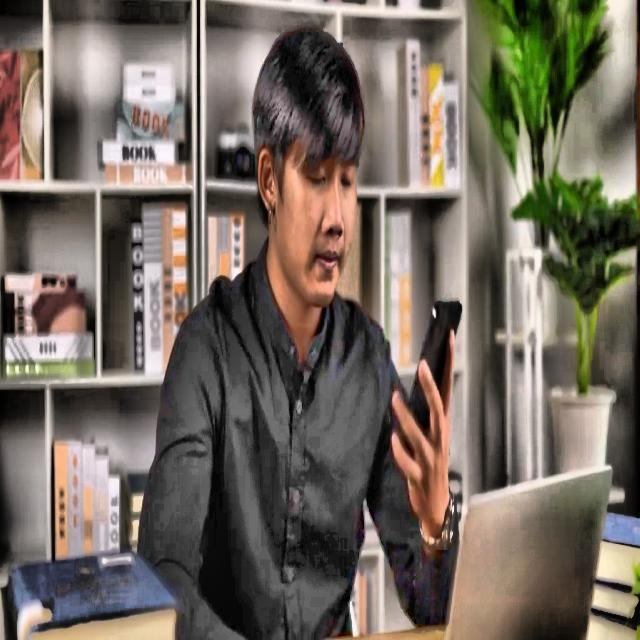Phone: (402, 296, 463, 472)
